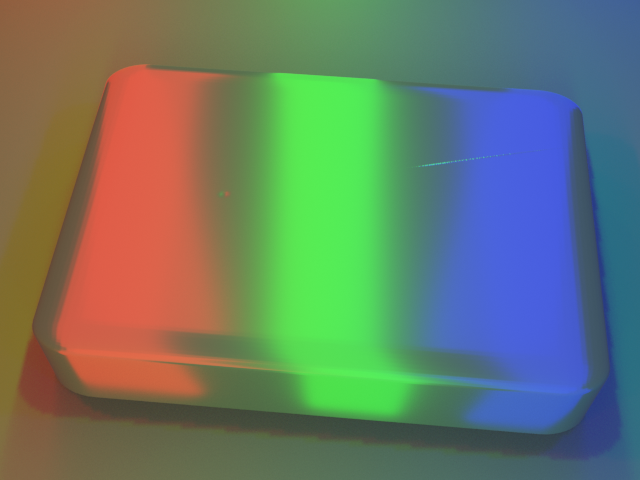dent: (195, 174, 232, 206)
scratch: (296, 62, 513, 273)
